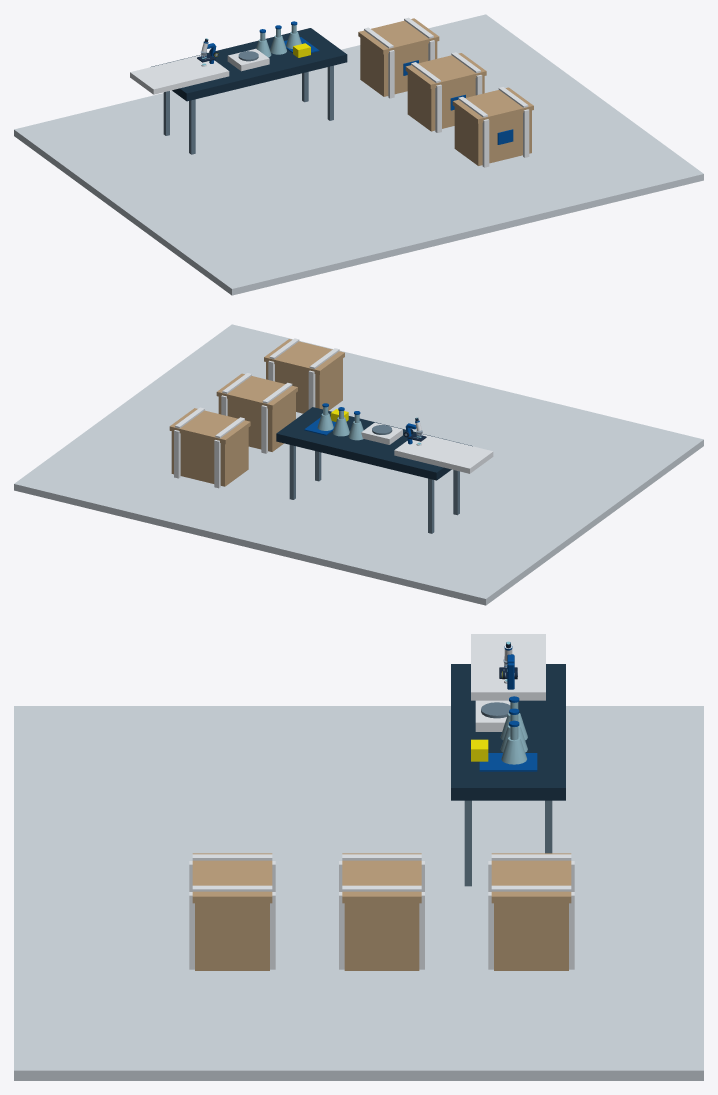
Rendered from packing.glb.
3 renders of one model, top to bottom at view 1: azimuth 30°, elevation 25°; view 2: azimuth 150°, elevation 25°; view 3: azimuth 270°, elevation 25°, orthographic. The views are drawn at different scales.
Visible parts, largest first — view 1: Floor, Box (×3), LidPanel (×3), Worktop, Protection, Balance; view 2: Floor, Box (×3), LidPanel (×3), Worktop, Protection, Balance; view 3: Floor, Box (×3), LidPanel (×3), Worktop, Protection, Inventory, TableLeg.
Boxes of the visible parts, box(x1,y1,x2,y2) form: Floor: box(14, 14, 703, 295); Box (×3): box(360, 38, 531, 165); LidPanel (×3): box(358, 18, 533, 123); Worktop: box(151, 28, 347, 101); Protection: box(130, 55, 229, 94); Balance: box(227, 48, 269, 71); Floor: box(14, 324, 703, 605); Box (×3): box(171, 358, 342, 486); LidPanel (×3): box(169, 339, 344, 444); Worktop: box(276, 407, 472, 480); Protection: box(394, 434, 493, 473); Balance: box(361, 422, 402, 444); Floor: box(14, 706, 703, 1080); Box (×3): box(195, 903, 568, 970); LidPanel (×3): box(192, 853, 571, 903); Worktop: box(451, 664, 565, 800); Protection: box(471, 634, 545, 700); Inventory: box(479, 753, 537, 771); TableLeg: box(464, 800, 471, 886).
Size of the model in its own units: 7.5 by 1.68 by 6.
